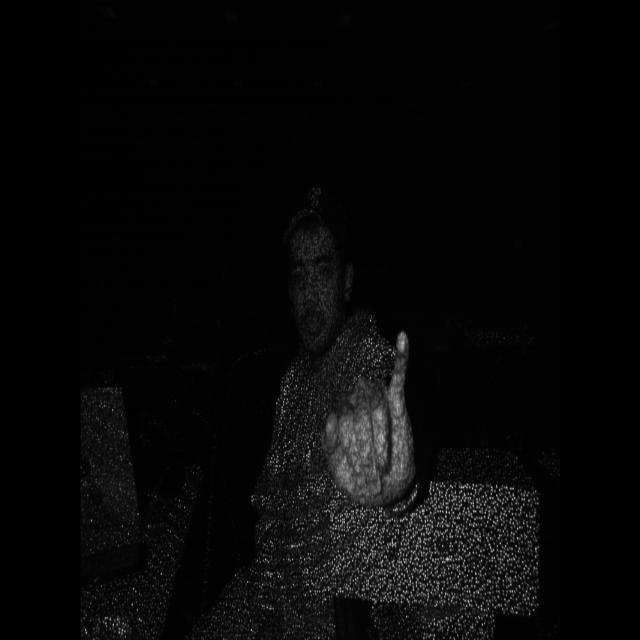I: (317, 296, 423, 528)
